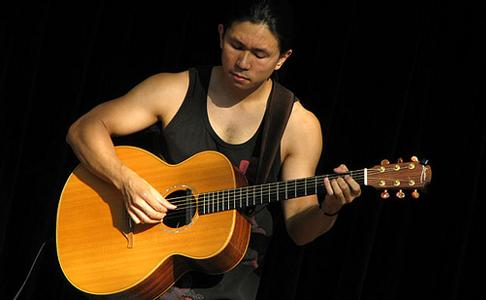person: (65, 5, 363, 297)
